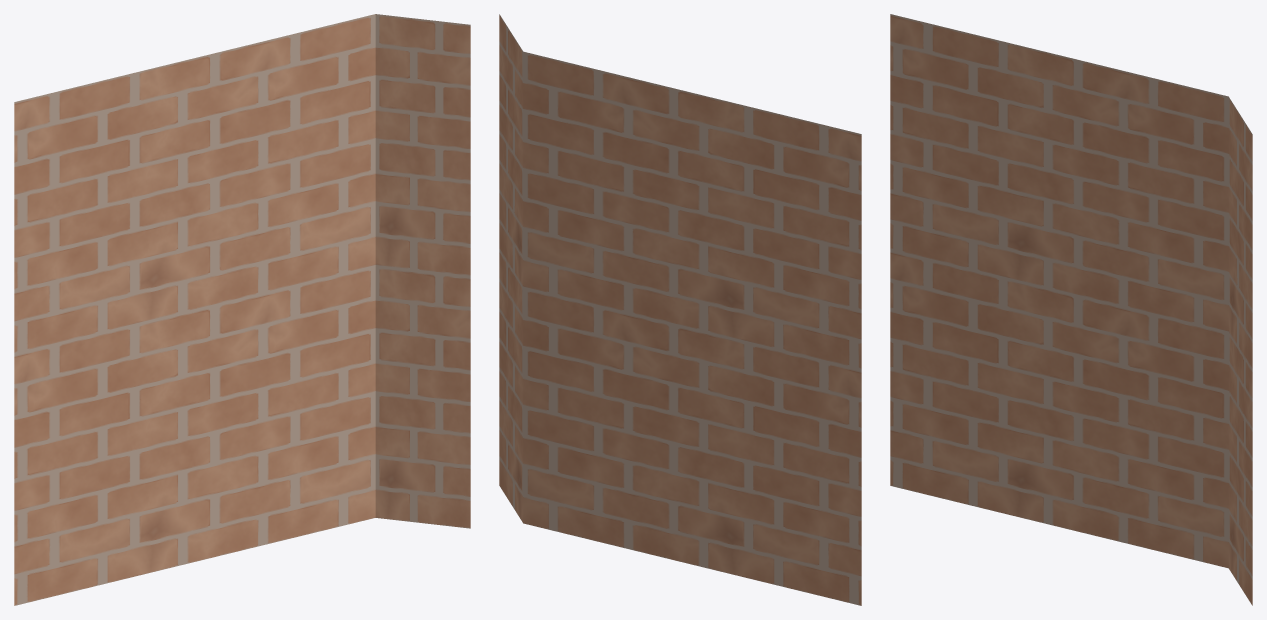
Rendered from Mid_Temp_Wall_Cor_R.fbx.
3 renders of one model, left to right at view 1: azimuth 30°, elevation 25°; view 2: azimuth 150°, elevation 25°; view 3: azimuth 330°, elevation 25°, orthographic. The views are drawn at different scales.
Visible parts, largest first — view 1: Mid_Temp_Wall_Cor_R; view 2: Mid_Temp_Wall_Cor_R; view 3: Mid_Temp_Wall_Cor_R.
Boxes of the visible parts, left/top/right/bottom form: Mid_Temp_Wall_Cor_R: left=14, top=14, right=470, bottom=605; Mid_Temp_Wall_Cor_R: left=499, top=14, right=861, bottom=605; Mid_Temp_Wall_Cor_R: left=890, top=14, right=1252, bottom=605.
Size of the model in its own units: 87.5 by 100 by 12.5.
Materials: 1 (1 with a texture image).
